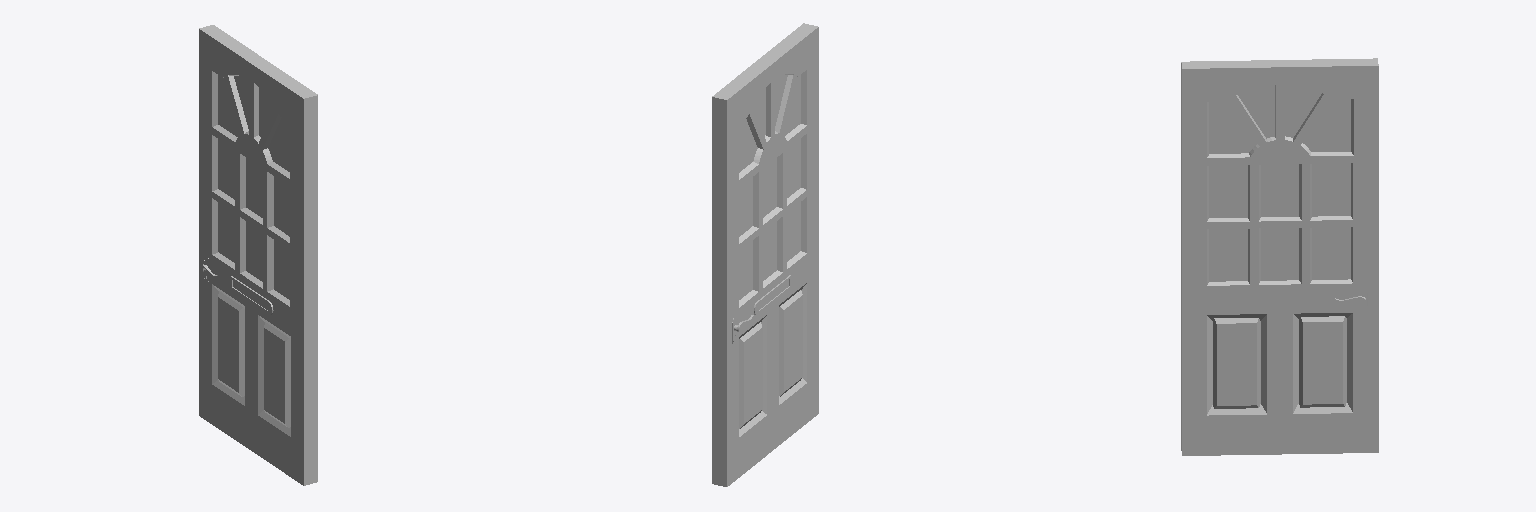
File: door_000003.obj
The picture shows the model from 3 angles: view 1: azimuth 30°, elevation 25°; view 2: azimuth 150°, elevation 25°; view 3: azimuth 270°, elevation 25°; orthographic projection.
Visible parts, largest first — view 1: Door.003; view 2: Door.003; view 3: Door.003.
Boxes of the visible parts, x1=… form: Door.003: x1=199, y1=25, x2=317, y2=485; Door.003: x1=712, y1=23, x2=818, y2=486; Door.003: x1=1181, y1=58, x2=1378, y2=455.
Bounding box in the file's own units: 0.1189 × 1.6 × 0.7414.